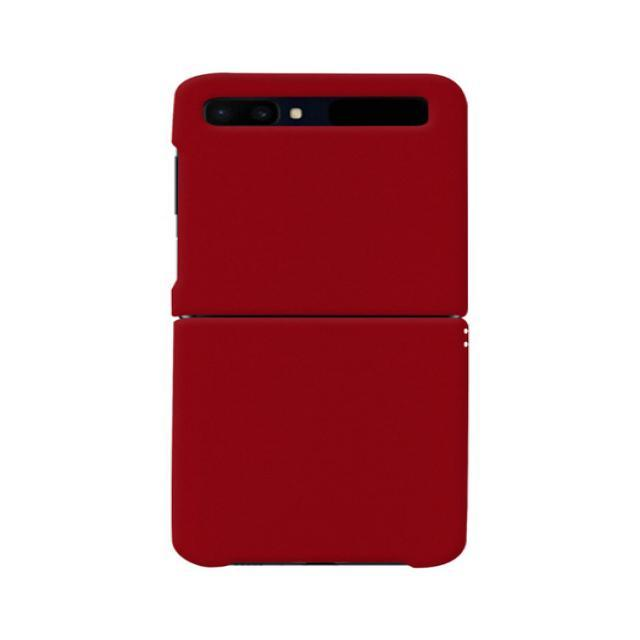phone: (171, 73, 469, 570)
